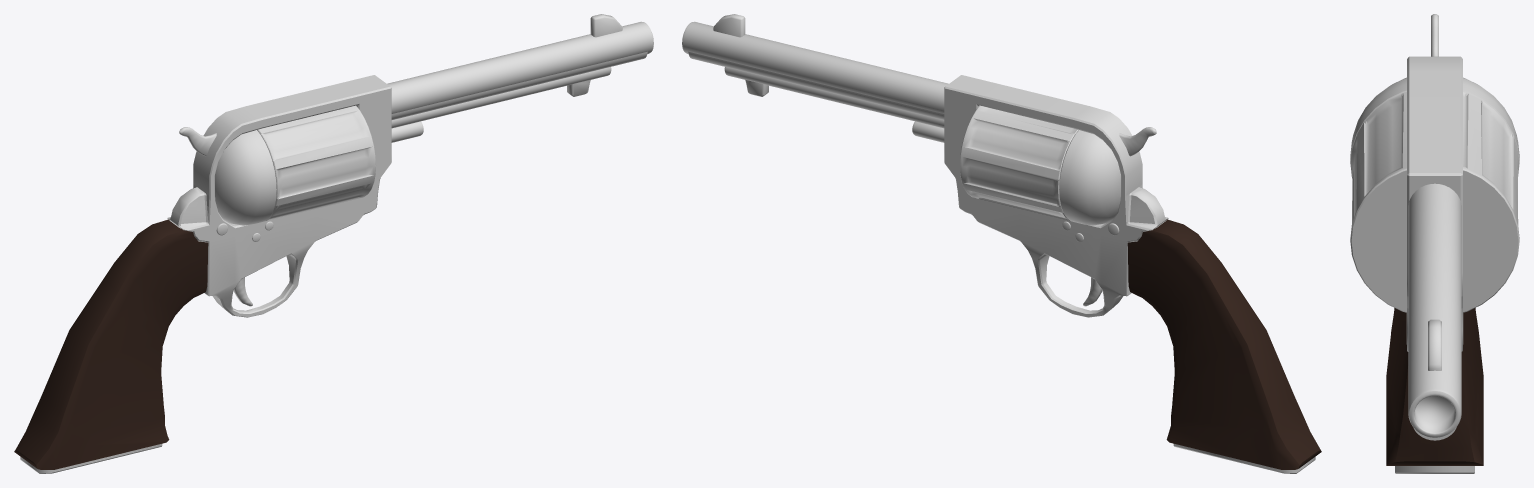
File: REVOLVER.glb
3 views of the same model, side by side, from view 1: azimuth 30°, elevation 25°; view 2: azimuth 150°, elevation 25°; view 3: azimuth 270°, elevation 25° (orthographic). The views are drawn at different scales.
Parts seen in each view (by area): view 1: GOLD_IRON, GOLD_IRON_TAMBOR; view 2: GOLD_IRON, GOLD_IRON_TAMBOR; view 3: GOLD_IRON, GOLD_IRON_TAMBOR.
Part boxes in pixels (bbox=[...]): GOLD_IRON: bbox=[14, 14, 653, 473]; GOLD_IRON_TAMBOR: bbox=[215, 105, 375, 225]; GOLD_IRON: bbox=[682, 14, 1321, 473]; GOLD_IRON_TAMBOR: bbox=[960, 105, 1120, 225]; GOLD_IRON: bbox=[1386, 14, 1483, 473]; GOLD_IRON_TAMBOR: bbox=[1350, 77, 1519, 312].
Size of the model in its own units: 0.8849 by 0.4259 by 0.1297.
